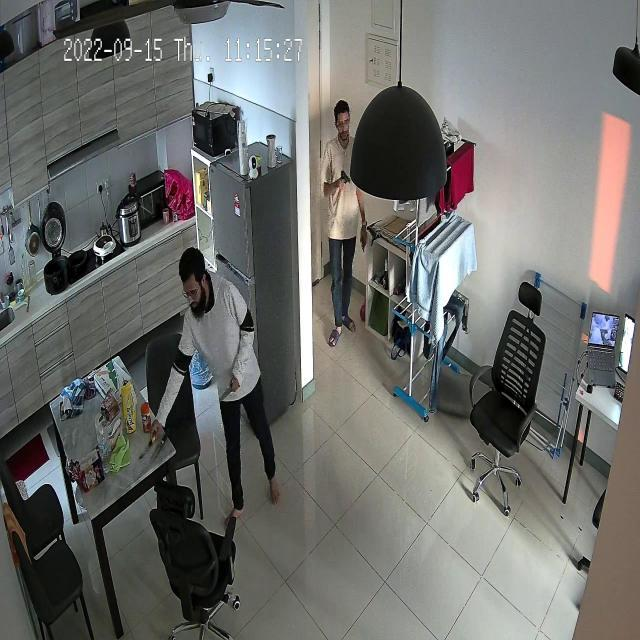Gun: (330, 165, 358, 200)
Knife: (133, 424, 167, 466), (209, 372, 244, 410)
